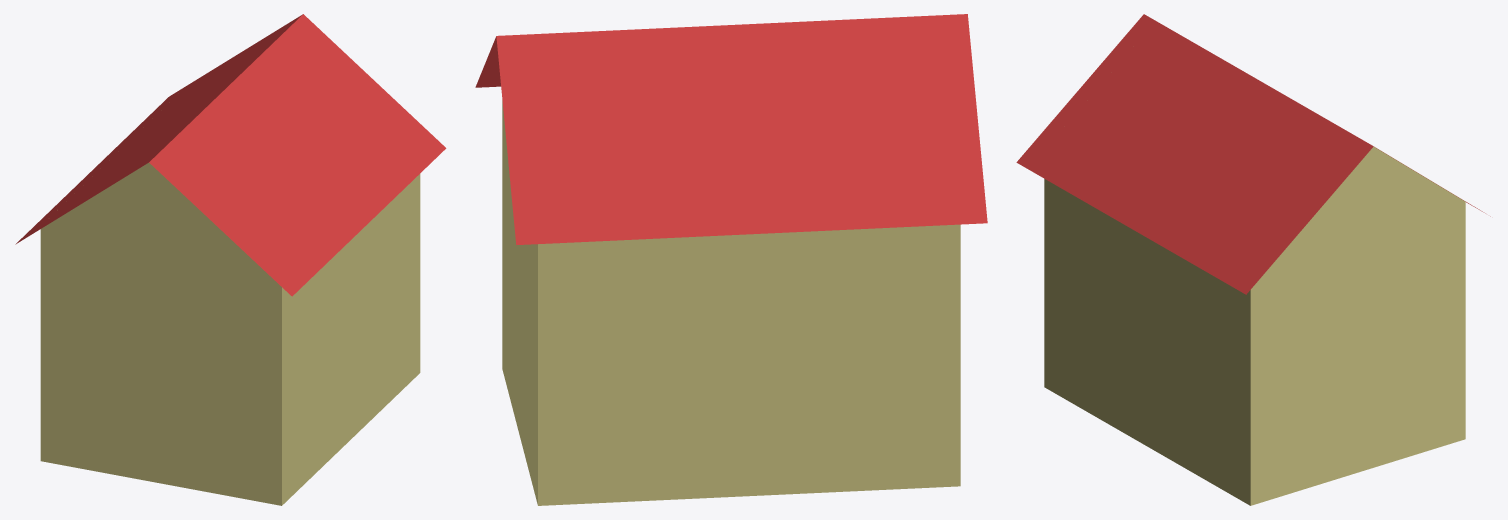
3 renders of one model, left to right at view 1: azimuth 30°, elevation 25°; view 2: azimuth 150°, elevation 25°; view 3: azimuth 270°, elevation 25°, orthographic. The views are drawn at different scales.
Size of the model in its own units: 12.29 by 11.85 by 9.1.
